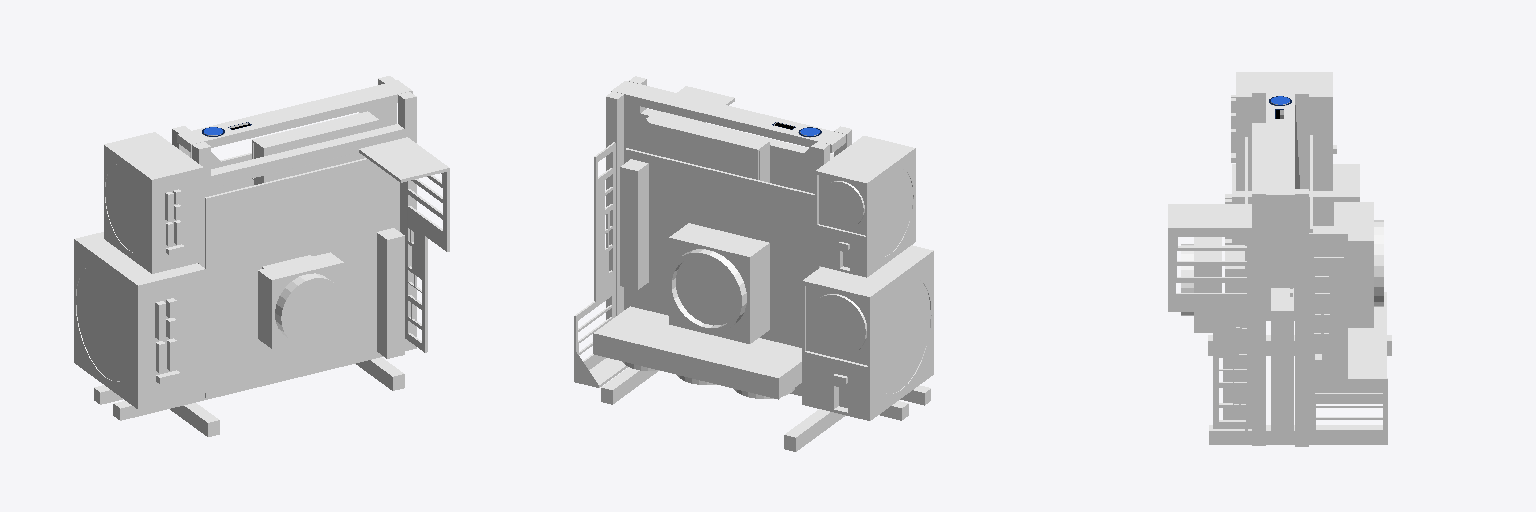
Rendered from 双主板机箱.obj.
The picture shows the model from 3 angles: view 1: azimuth 30°, elevation 25°; view 2: azimuth 150°, elevation 25°; view 3: azimuth 270°, elevation 25°; orthographic projection.
Visible parts, largest first — view 1: Mesh3 nas__1 Model, Mesh4 atx__1 Model, Mesh9 Model, Mesh8 atx__2 Model, Mesh14 Model, Mesh13 Model, Mesh7 G_3_5__3 Model, Mesh10 Model, Mesh11 Model, Mesh12 Model; view 2: Mesh1 PC__1 Model, Mesh4 atx__1 Model, Mesh8 atx__2 Model, Mesh10 Model, Mesh2 PC__1 Model, Mesh13 Model, Mesh7 G_3_5__3 Model, Mesh9 Model, Mesh11 Model, Mesh12 Model; view 3: Mesh9 Model, Mesh10 Model, Mesh8 atx__2 Model, Mesh1 PC__1 Model, Mesh2 PC__1 Model, Mesh13 Model, Mesh6 G_3_5__2 Model, Mesh4 atx__1 Model, Mesh3 nas__1 Model, Mesh7 G_3_5__3 Model, Mesh14 Model, Mesh12 Model.
Part boxes in pixels (left/top/right/bottom): Mesh3 nas__1 Model: left=205, top=158, right=404, bottom=398; Mesh4 atx__1 Model: left=74, top=232, right=205, bottom=409; Mesh9 Model: left=113, top=92, right=449, bottom=420; Mesh8 atx__2 Model: left=104, top=132, right=203, bottom=273; Mesh14 Model: left=258, top=252, right=343, bottom=348; Mesh13 Model: left=177, top=80, right=412, bottom=152; Mesh7 G_3_5__3 Model: left=252, top=111, right=379, bottom=185; Mesh10 Model: left=94, top=76, right=396, bottom=404; Mesh11 Model: left=170, top=403, right=219, bottom=436; Mesh12 Model: left=356, top=357, right=404, bottom=390; Mesh1 PC__1 Model: left=593, top=148, right=820, bottom=399; Mesh4 atx__1 Model: left=802, top=245, right=933, bottom=420; Mesh8 atx__2 Model: left=815, top=136, right=915, bottom=277; Mesh10 Model: left=574, top=91, right=908, bottom=420; Mesh2 PC__1 Model: left=667, top=223, right=769, bottom=343; Mesh13 Model: left=611, top=81, right=845, bottom=152; Mesh7 G_3_5__3 Model: left=646, top=113, right=769, bottom=182; Mesh9 Model: left=629, top=76, right=930, bottom=405; Mesh11 Model: left=784, top=409, right=845, bottom=451; Mesh12 Model: left=601, top=367, right=657, bottom=404; Mesh9 Model: left=1168, top=87, right=1265, bottom=445; Mesh10 Model: left=1295, top=88, right=1387, bottom=446; Mesh8 atx__2 Model: left=1231, top=72, right=1336, bottom=190; Mesh1 PC__1 Model: left=1310, top=135, right=1386, bottom=403; Mesh2 PC__1 Model: left=1334, top=202, right=1383, bottom=327; Mesh13 Model: left=1266, top=87, right=1294, bottom=202; Mesh6 G_3_5__2 Model: left=1271, top=288, right=1293, bottom=431; Mesh4 atx__1 Model: left=1225, top=164, right=1359, bottom=320; Mesh3 nas__1 Model: left=1223, top=137, right=1247, bottom=430; Mesh7 G_3_5__3 Model: left=1270, top=203, right=1293, bottom=287; Mesh14 Model: left=1181, top=237, right=1221, bottom=332; Mesh12 Model: left=1209, top=425, right=1382, bottom=444.
Bounding box in the file's own units: 379 × 326 × 245.